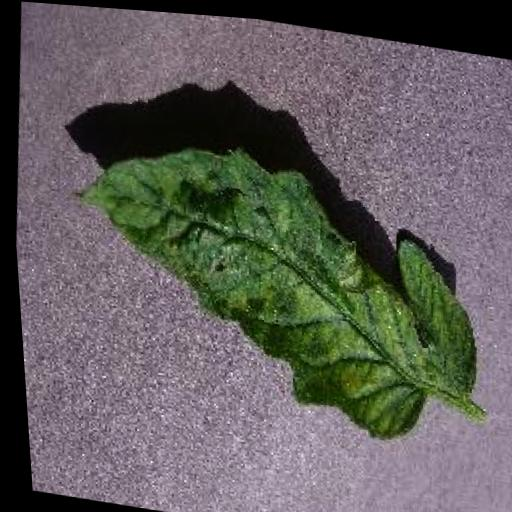Mosaic Virus: (53, 121, 493, 449)
